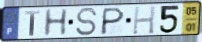5: (158, 4, 182, 35)
H: (42, 8, 70, 38), (131, 5, 157, 36)
P: (99, 6, 126, 36)
S: (75, 7, 99, 37)
T: (24, 10, 42, 37)
